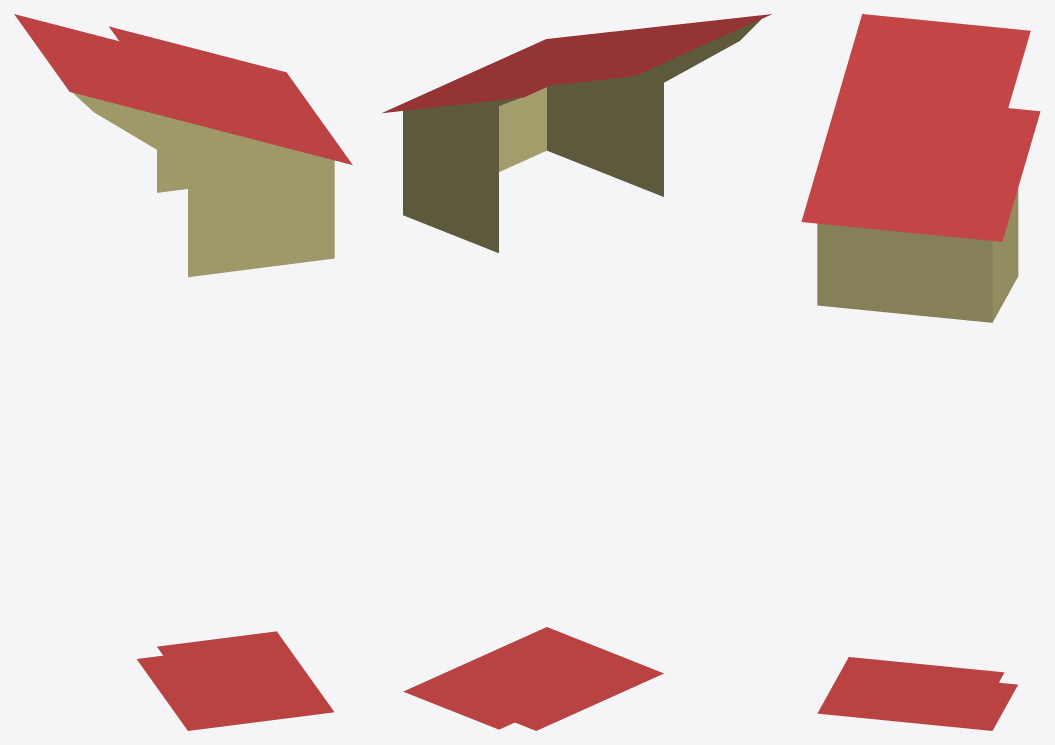
3 views of the same model, side by side, from view 1: azimuth 30°, elevation 25°; view 2: azimuth 150°, elevation 25°; view 3: azimuth 270°, elevation 25° (orthographic). The views are drawn at different scales.
Size of the model in its own units: 5.78 by 4.51 by 12.38.
